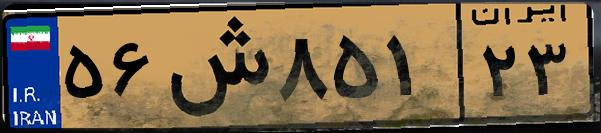1: (385, 28, 445, 110)
2: (475, 38, 525, 113)
3: (525, 38, 570, 115)
5: (330, 28, 385, 110), (57, 26, 110, 100)
6: (110, 28, 158, 98)
8: (270, 28, 330, 110)
ش: (158, 12, 270, 120)
